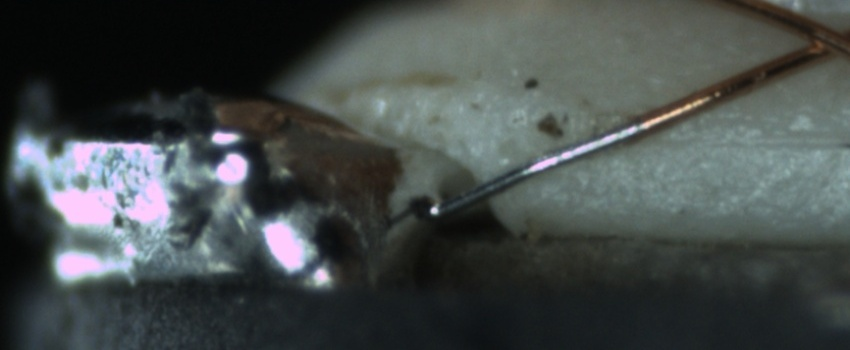CL: (779, 14, 849, 69)
DL: (635, 107, 850, 171)
TS: (425, 121, 643, 220)
